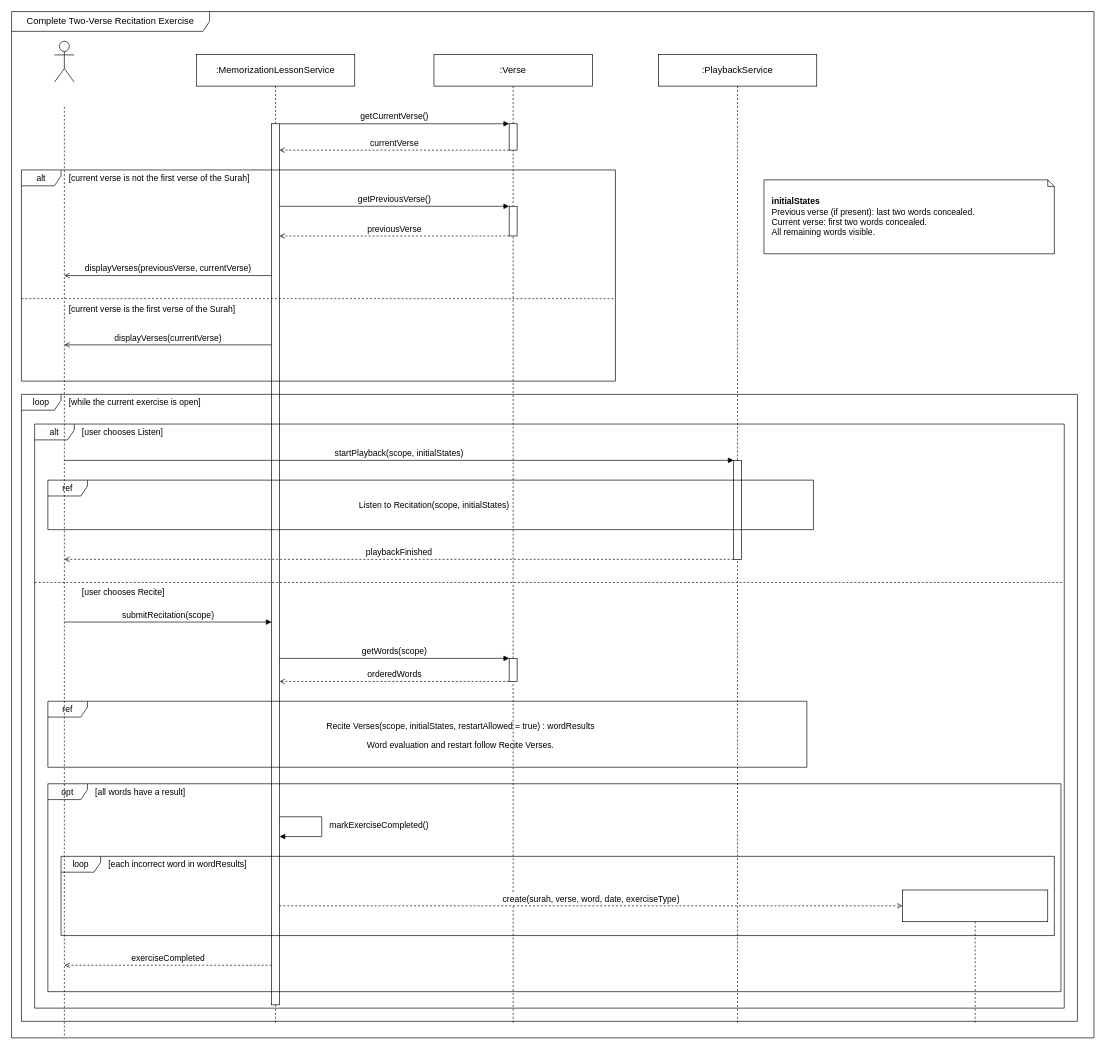
Some shapes in this 1106 by 1050 pixel diagram are drawn without their labels. Each missing label, with the centre of its shape:
":MistakeRecord" belongs at pixel 975 905.
"User" belongs at pixel 64 61.
